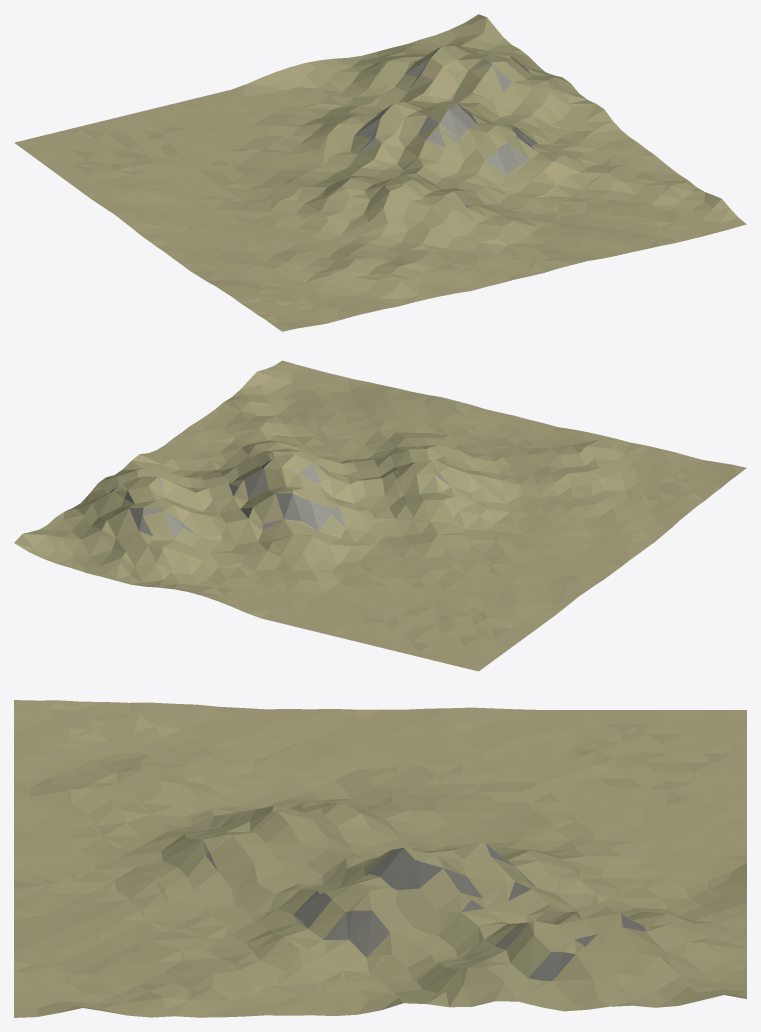
File: Ground_4_3.glb
The picture shows the model from 3 angles, top to bottom: view 1: azimuth 30°, elevation 25°; view 2: azimuth 150°, elevation 25°; view 3: azimuth 270°, elevation 25°; orthographic projection. The views are drawn at different scales.
Visible parts, largest first — view 1: Ground_4_3; view 2: Ground_4_3; view 3: Ground_4_3.
Part boxes in pixels (x1,y1,x2,y2): Ground_4_3: (14, 14, 746, 331); Ground_4_3: (14, 360, 746, 671); Ground_4_3: (14, 700, 746, 1017).
Bounding box in the file's own units: 768 × 78.66 × 768.
